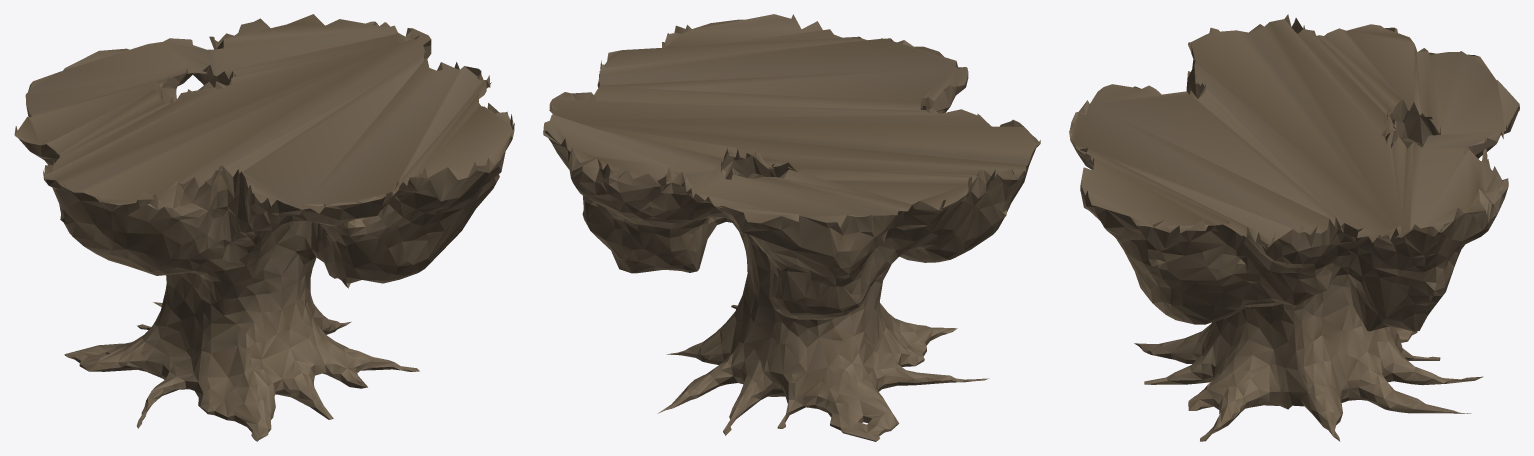
The model's file is cypress_stump.glb.
The picture shows the model from 3 angles, left to right: view 1: azimuth 30°, elevation 25°; view 2: azimuth 150°, elevation 25°; view 3: azimuth 270°, elevation 25°; orthographic projection. The views are drawn at different scales.
Parts seen in each view (by area): view 1: Stump; view 2: Stump; view 3: Stump.
Part boxes in pixels (left/top/right/bottom): Stump: left=14, top=14, right=514, bottom=441; Stump: left=543, top=14, right=1040, bottom=441; Stump: left=1069, top=14, right=1519, bottom=441.
Size of the model in its own units: 1.28 by 0.7298 by 1.11.
